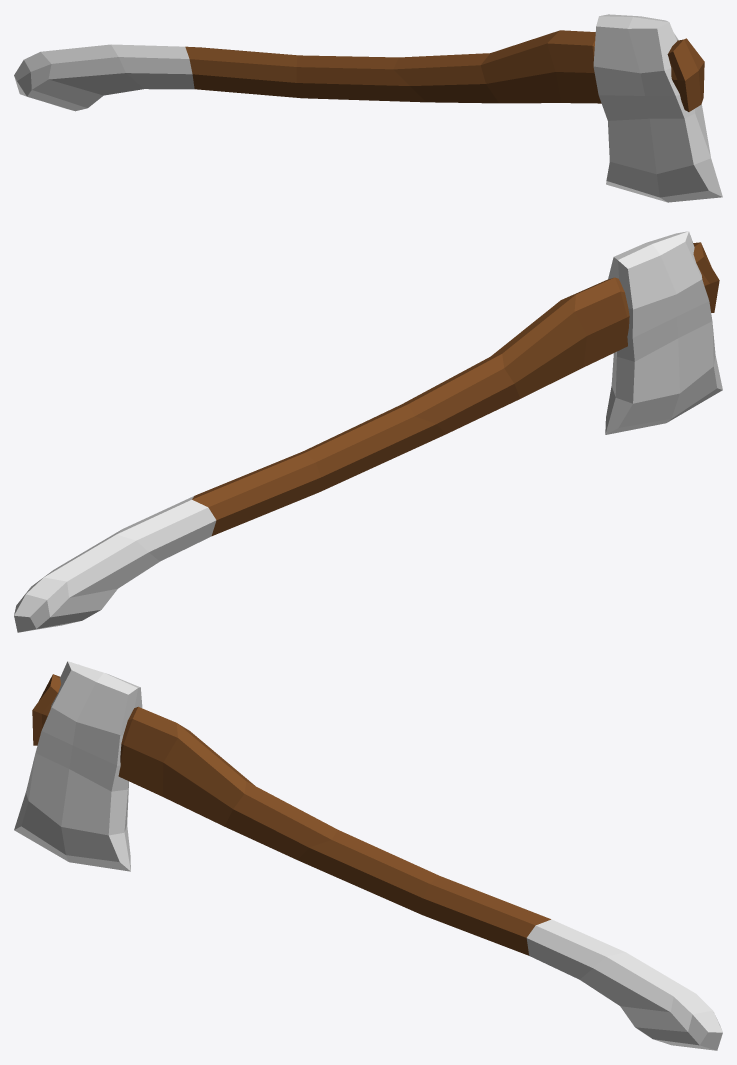
Rendered from axe.fbx.
3 views of the same model, one above another, from view 1: azimuth 90°, elevation 25°; view 2: azimuth 150°, elevation 25°; view 3: azimuth 270°, elevation 25° (orthographic). The views are drawn at different scales.
Visible parts, largest first — view 1: Cube, Cube.001; view 2: Cube, Cube.001; view 3: Cube, Cube.001.
Part boxes in pixels (left/top/right/bottom): Cube: left=14, top=30, right=704, bottom=111; Cube.001: left=593, top=14, right=722, bottom=202; Cube: left=14, top=242, right=719, bottom=632; Cube.001: left=605, top=231, right=722, bottom=434; Cube: left=32, top=674, right=722, bottom=1050; Cube.001: left=14, top=661, right=142, bottom=871.
Size of the model in its own units: 261 by 166 by 454.
